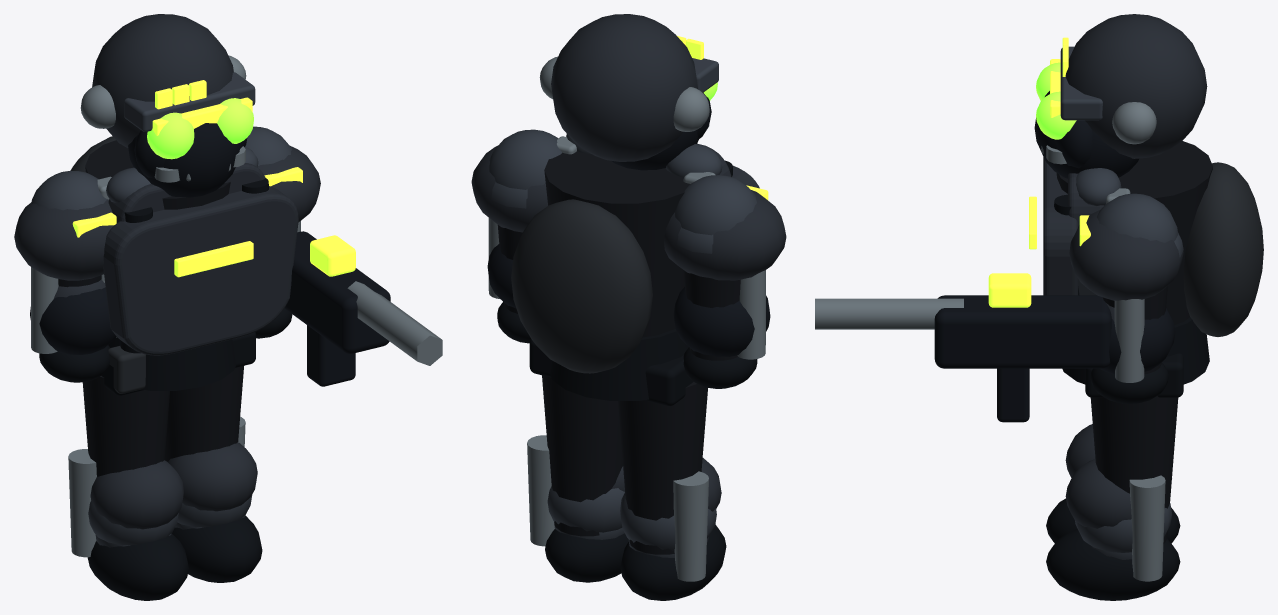
File: sentinel_l03.glb
3 views of the same model, side by side, from view 1: azimuth 30°, elevation 25°; view 2: azimuth 150°, elevation 25°; view 3: azimuth 270°, elevation 25° (orthographic). The views are drawn at different scales.
Visible parts, largest first — view 1: contoured_tactical_plate, trouser (×2), rounded_helmet, shaped_knee_guard (×2), rounded_boot (×2), broad_shoulder_guard (×2), heavy_carbine, enclosed_mask, forearm_guard, waist_flex, shoulder_joint (×2), heavy_barrel (+18 smaller); view 2: shaped_field_pack, trouser (×2), rounded_helmet, body, broad_shoulder_guard (×2), rounded_boot (×2), shoulder_joint (×2), shin_frame (×2), forearm_guard (×2), waist_flex, knee_plate (×2), glove (×2) (+9 smaller); view 3: rounded_helmet, heavy_carbine, shaped_field_pack, trouser, broad_shoulder_guard, rounded_boot (×2), body, heavy_barrel, shaped_knee_guard (×2), shin_frame, contoured_tactical_plate, shoulder_joint (+16 smaller).
Boxes of the visible parts, x1,y1,x2,y2 form: contoured_tactical_plate: (103,186,298,355); trouser (×2): (82,366,243,476); rounded_helmet: (92,14,233,147); shaped_knee_guard (×2): (90,442,257,529); rounded_boot (×2): (87,515,262,600); broad_shoulder_guard (×2): (14,145,320,280); heavy_carbine: (284,231,390,353); enclosed_mask: (128,123,240,197); forearm_guard: (30,287,116,354); waist_flex: (108,337,235,390); shoulder_joint (×2): (31,126,292,210); heavy_barrel: (347,281,442,365); shaped_field_pack: (511,199,652,373); trouser (×2): (542,375,707,554); rounded_helmet: (551,14,698,161); body: (544,151,689,337); broad_shoulder_guard (×2): (471,145,786,280); rounded_boot (×2): (545,524,726,600); shoulder_joint (×2): (489,129,756,235); shin_frame (×2): (527,435,708,581); forearm_guard (×2): (487,244,770,356); waist_flex: (550,329,688,400); knee_plate (×2): (547,486,716,550); glove (×2): (497,301,757,388); rounded_helmet: (1065,14,1207,158); heavy_carbine: (934,295,1111,368); shaped_field_pack: (1183,162,1263,336); trouser: (1090,396,1178,543); broad_shoulder_guard: (1069,209,1183,300); rounded_boot (×2): (1046,498,1180,600); body: (1056,141,1212,324); heavy_barrel: (815,298,963,329); shaped_knee_guard (×2): (1065,424,1131,528); shin_frame: (1129,475,1165,581); contoured_tactical_plate: (1043,157,1077,295); shoulder_joint: (1097,193,1178,242).
Size of the model in its own units: 1.04 by 1.88 by 1.37.
